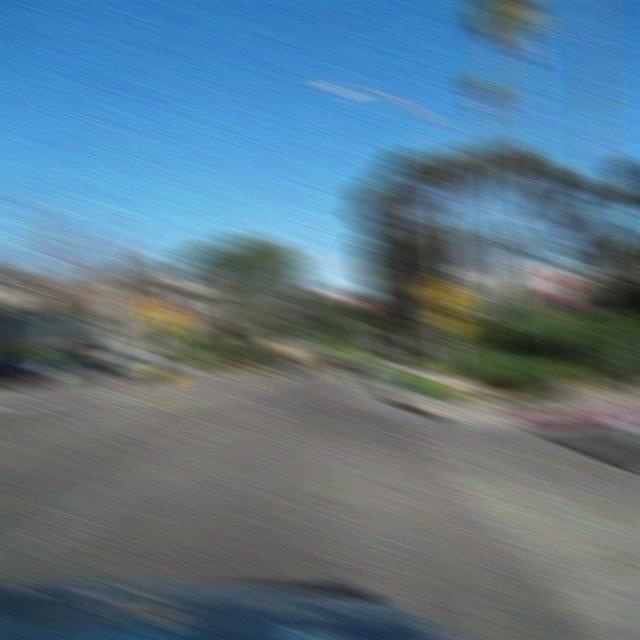stop: (545, 268, 574, 312)
